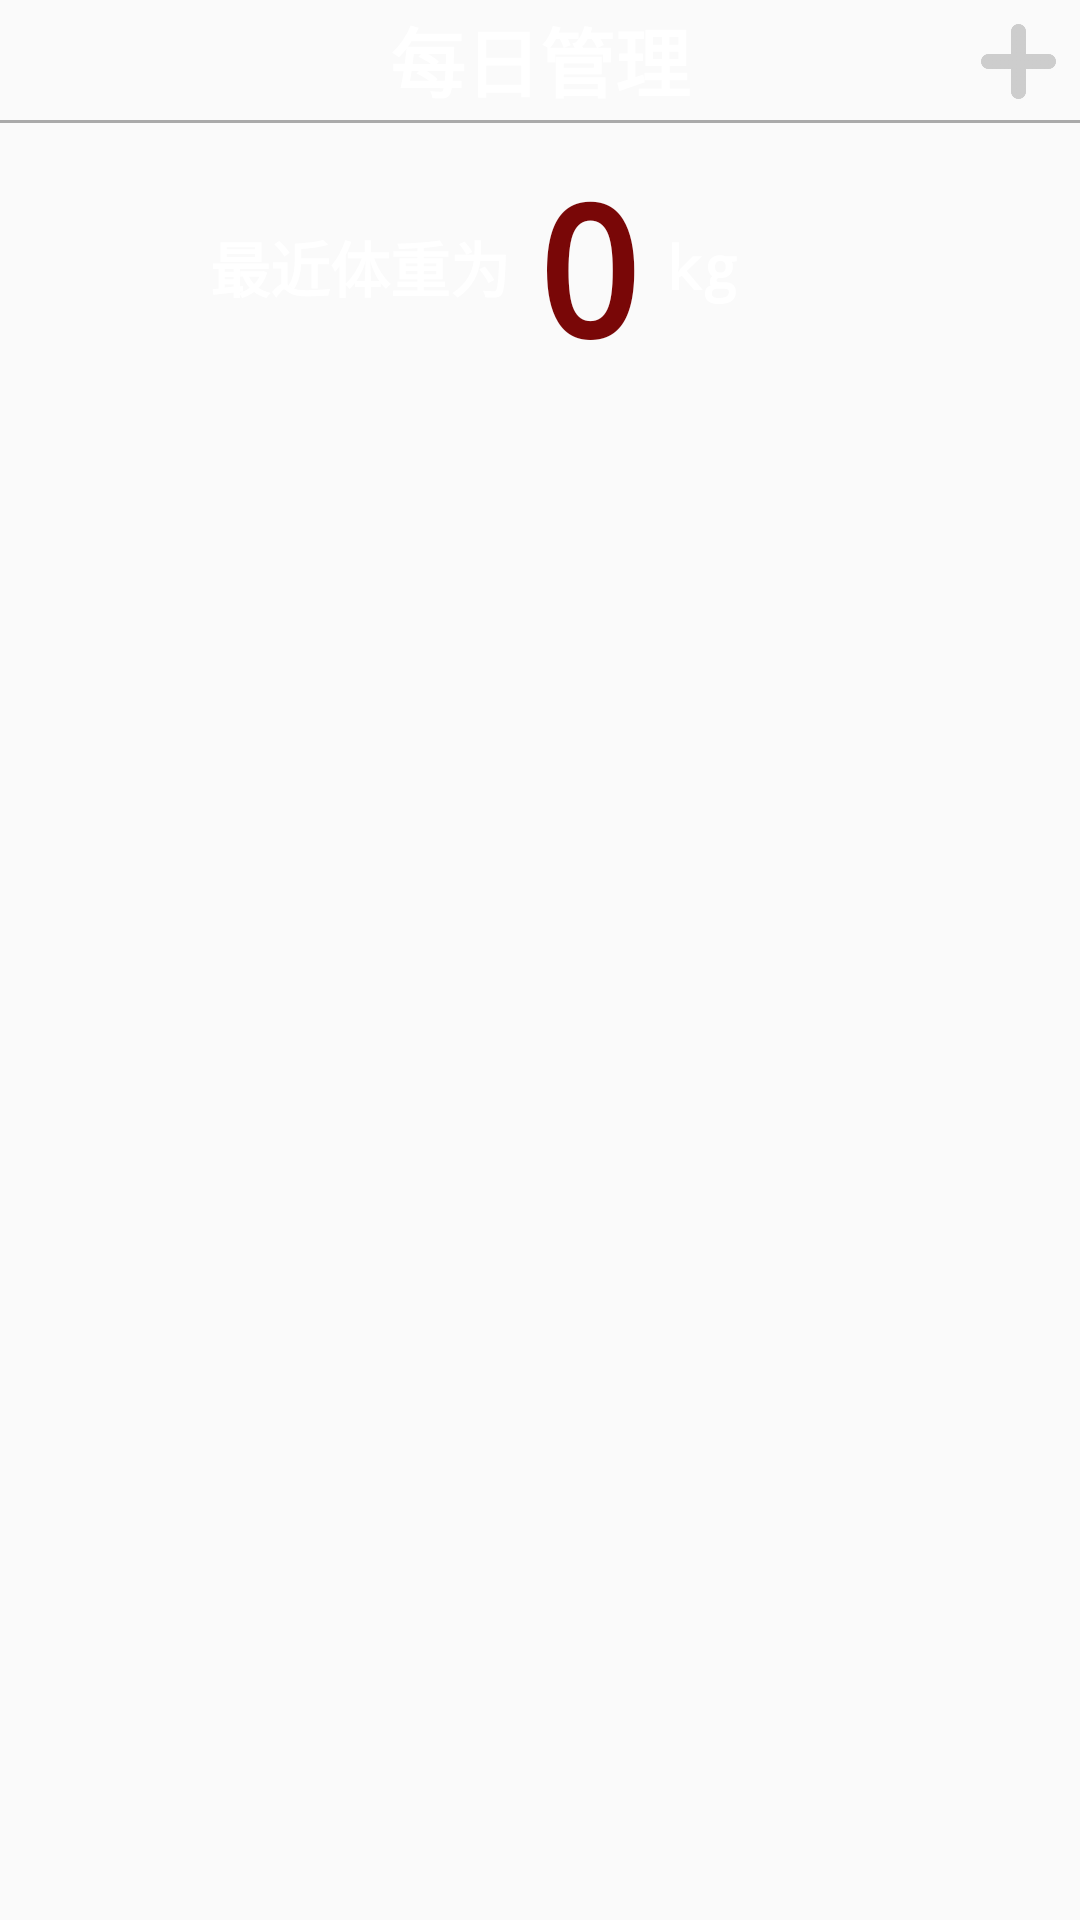

Icon click points for this 1080px×1920px phone screenshot, format [x,y]:
tianjia: [1018,61]
